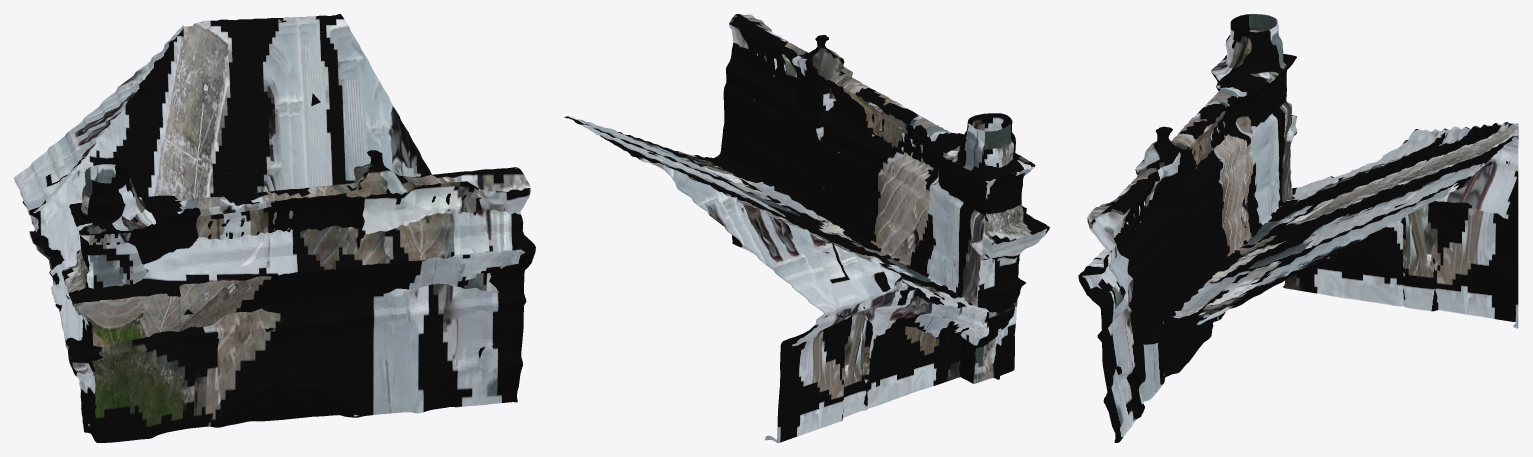
The picture shows the model from 3 angles, left to right: view 1: azimuth 30°, elevation 25°; view 2: azimuth 150°, elevation 25°; view 3: azimuth 270°, elevation 25°; orthographic projection. The views are drawn at different scales.
Visible parts, largest first — view 1: node_60; view 2: node_60; view 3: node_60.
Part boxes in pixels (<box>): node_60: <box>14,14,535,442</box>; node_60: <box>564,14,1049,442</box>; node_60: <box>1078,14,1518,442</box>.
Size of the model in its own units: 6.61 by 4.23 by 6.59.
1 material, 1 textured.
